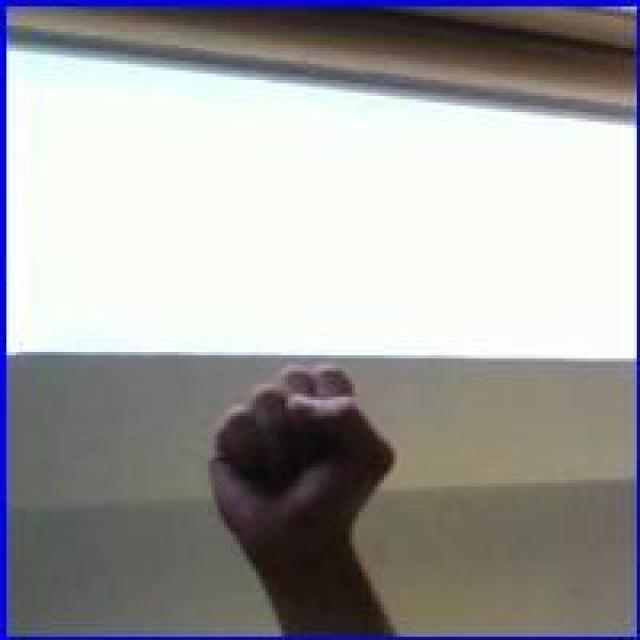S: (202, 362, 400, 544)
